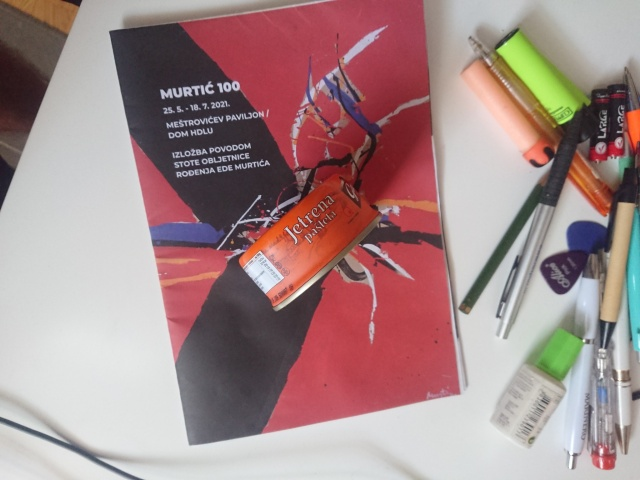Gavrilovic Pork Liver Pate 100g: (236, 169, 384, 315)
